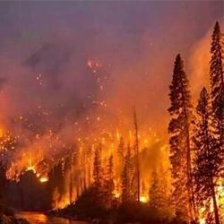fire: (195, 181, 224, 222), (26, 166, 49, 184), (137, 189, 152, 206)
